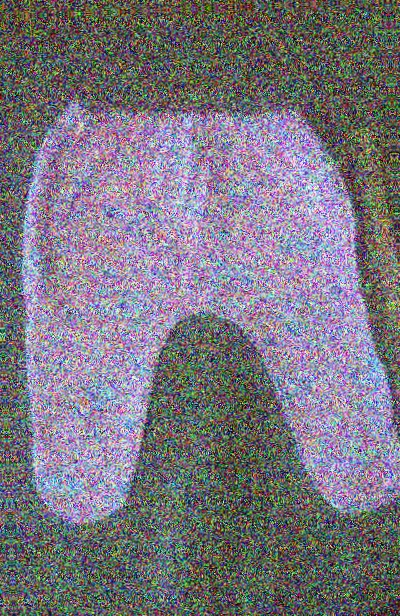Pants: (18, 90, 387, 550)
